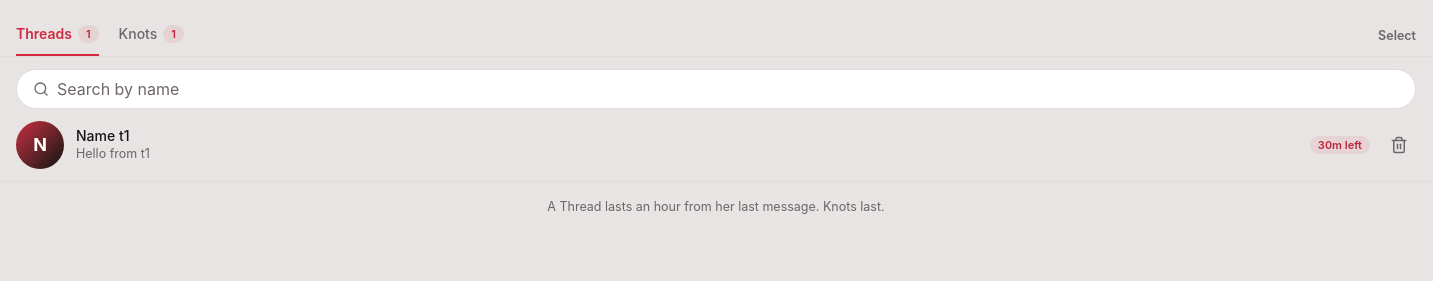
the rows › puts Knots on their own tab, each with the knot glyph and no countdown
Check: the text "Name t1" is shown, box [76,126,130,145]
Check: the text "Name k1" is not shown
Step 1. Click the button "Knots 1" → (151, 34), box [119,12,184,56]
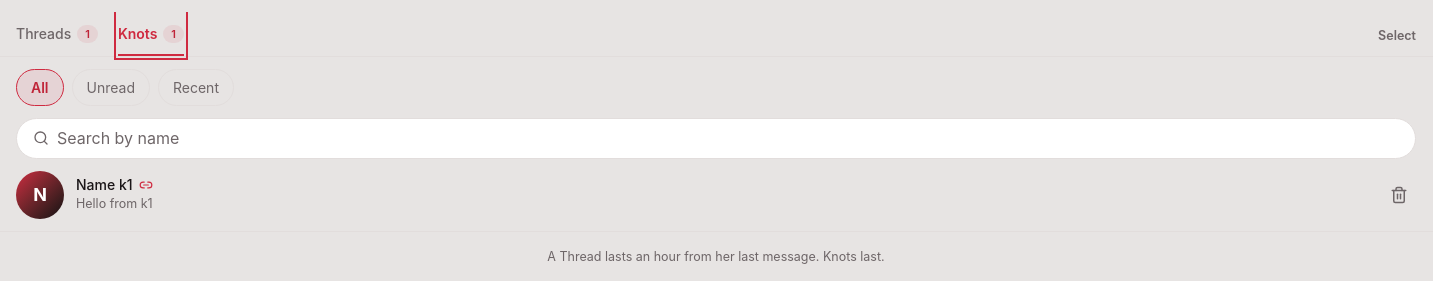
Check: the picture named "Knot" is shown, box [139,178,153,192]
Check: the link "30m left" is gone
Check: the link "Name t1" is gone
